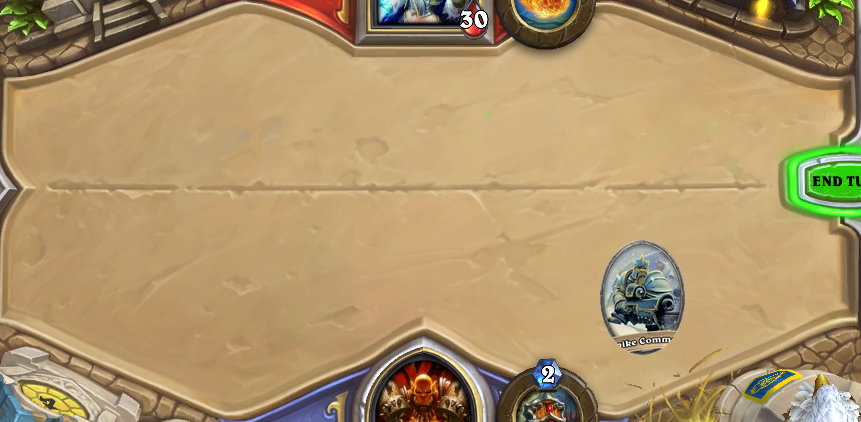CS2_150: (599, 238, 685, 355)
